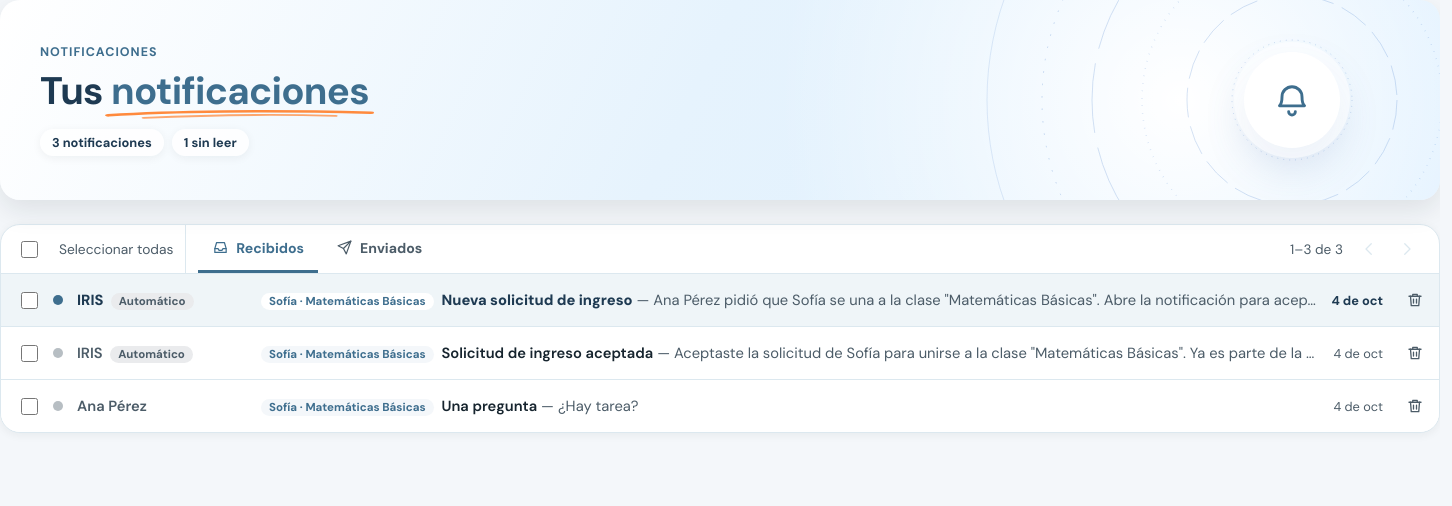
Test: Notificaciones del docente › has Recibidos and Enviados in the bar, and an empty Enviados says so
Click the button "Enviados" at {"x": 379, "y": 249}, box [322,225,436,273]
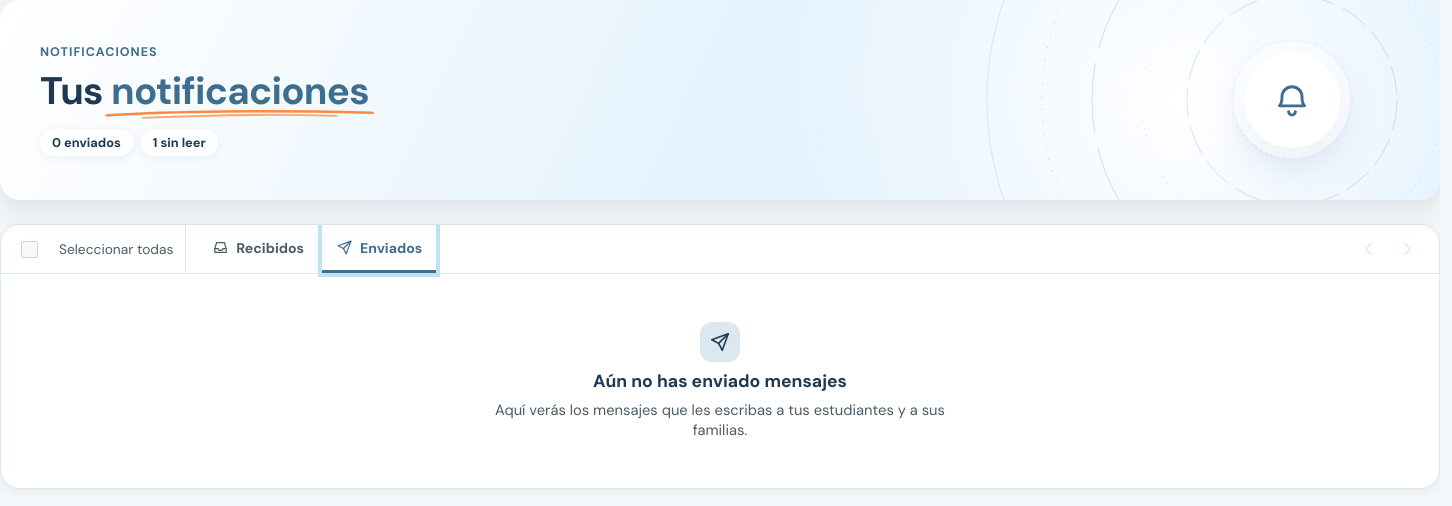
Result: the text "Aún no has enviado mensajes" is shown at [593,370,847,392]
Result: the text "0 enviados" is shown at [40,128,133,156]
